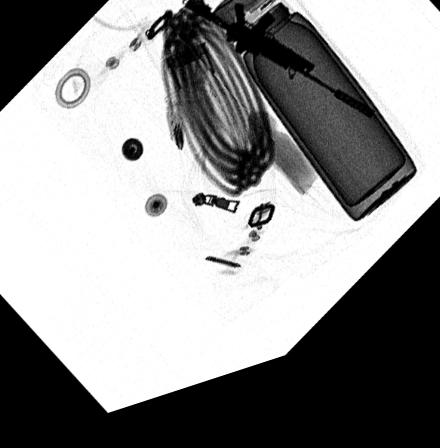Gun: (182, 0, 374, 143)
